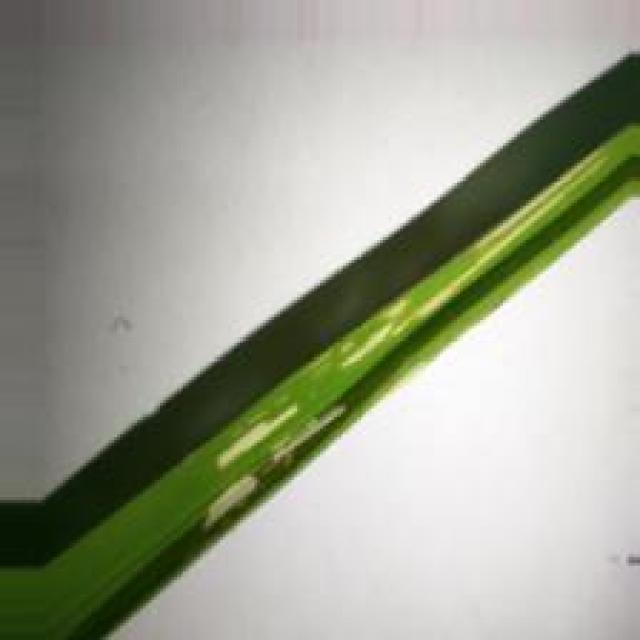Rice_Hispa: (341, 150, 606, 369), (217, 401, 307, 476), (276, 401, 346, 462), (203, 468, 262, 533)
